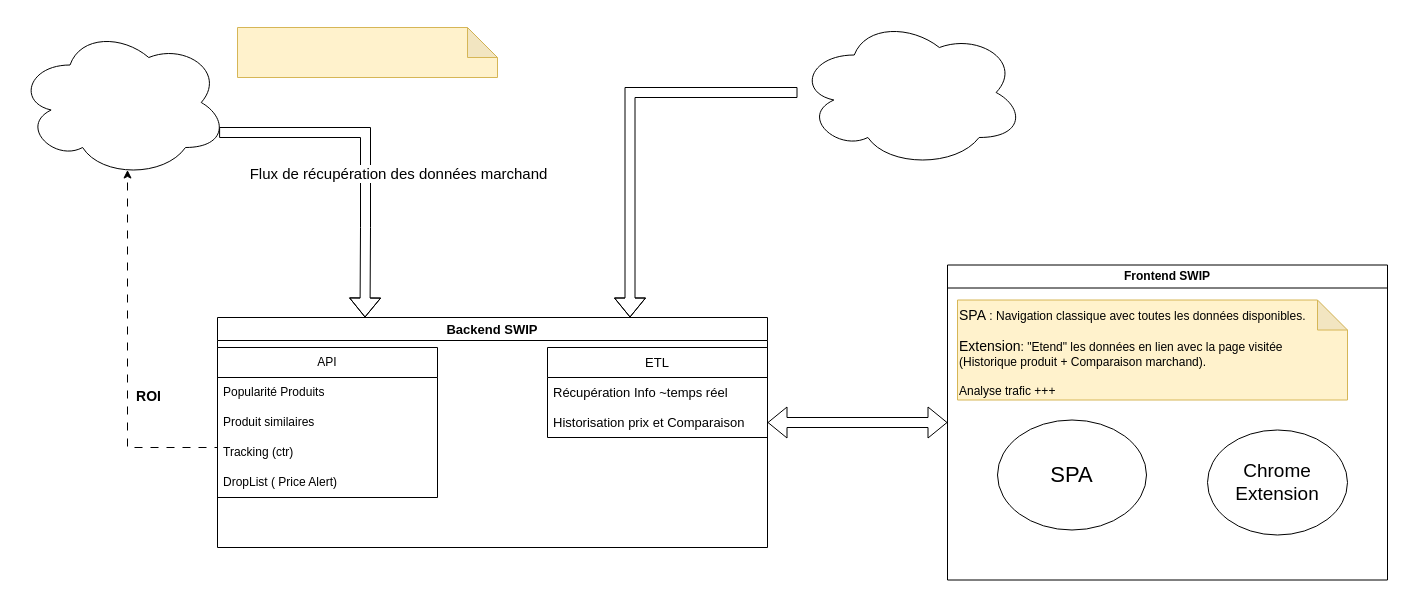
Image size: 1405x598. Some labels were removed from this diagram. The centre of each missing label's shape, as x and y in pixels:
Boutique Partenaires: the point at 122,102
Coupons: the point at 910,92
Fichier produits mis à disposition. Données présentes: Prix, Stock, Logo ...: the point at 367,52
